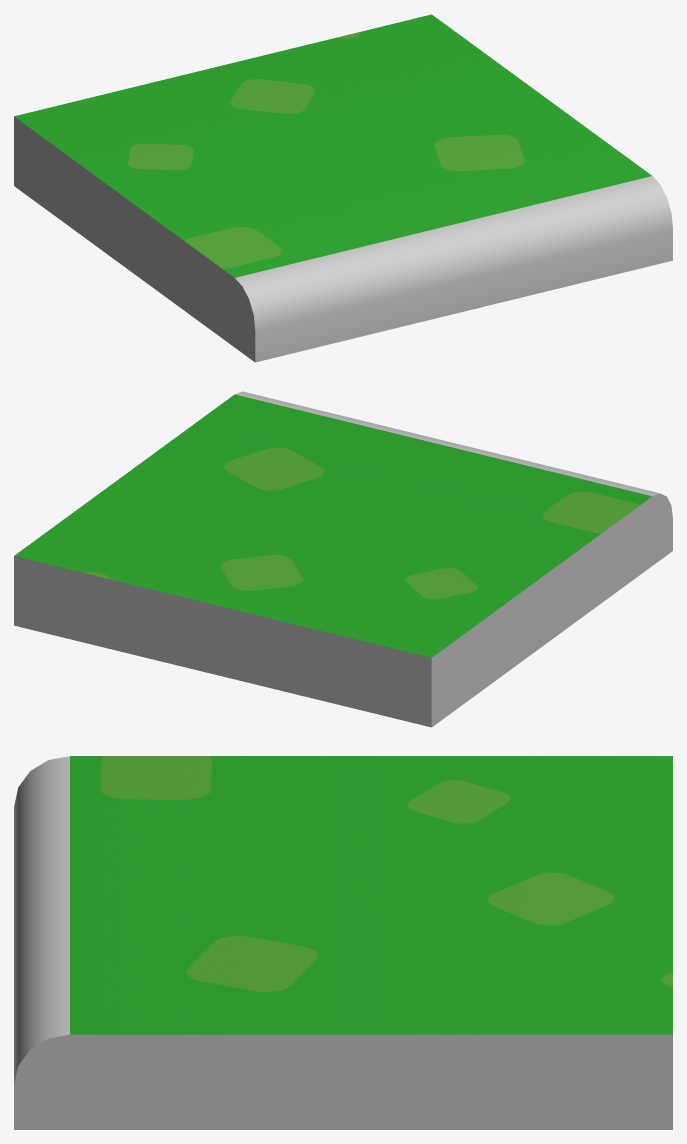
File: GrassFloor_Edge_1.fbx
3 renders of one model, top to bottom at view 1: azimuth 30°, elevation 25°; view 2: azimuth 150°, elevation 25°; view 3: azimuth 270°, elevation 25°, orthographic. The views are drawn at different scales.
Visible parts, largest first — view 1: GrassFloor_Edge_1; view 2: GrassFloor_Edge_1; view 3: GrassFloor_Edge_1.
Boxes of the visible parts, x1,y1,x2,y2 form: GrassFloor_Edge_1: (14,14,672,362); GrassFloor_Edge_1: (14,391,672,727); GrassFloor_Edge_1: (14,756,672,1129).
Bounding box in the file's own units: 2 × 0.3187 × 2.
